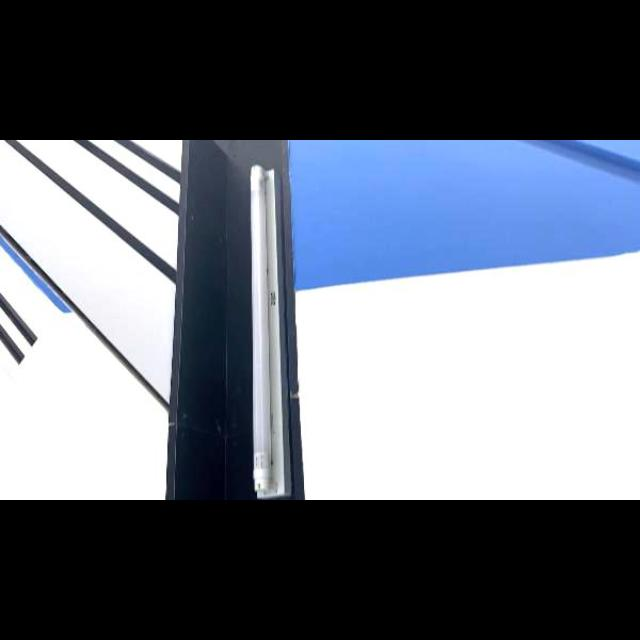Straight-Tube-Fluorescent-Lamp: (226, 158, 306, 498)
